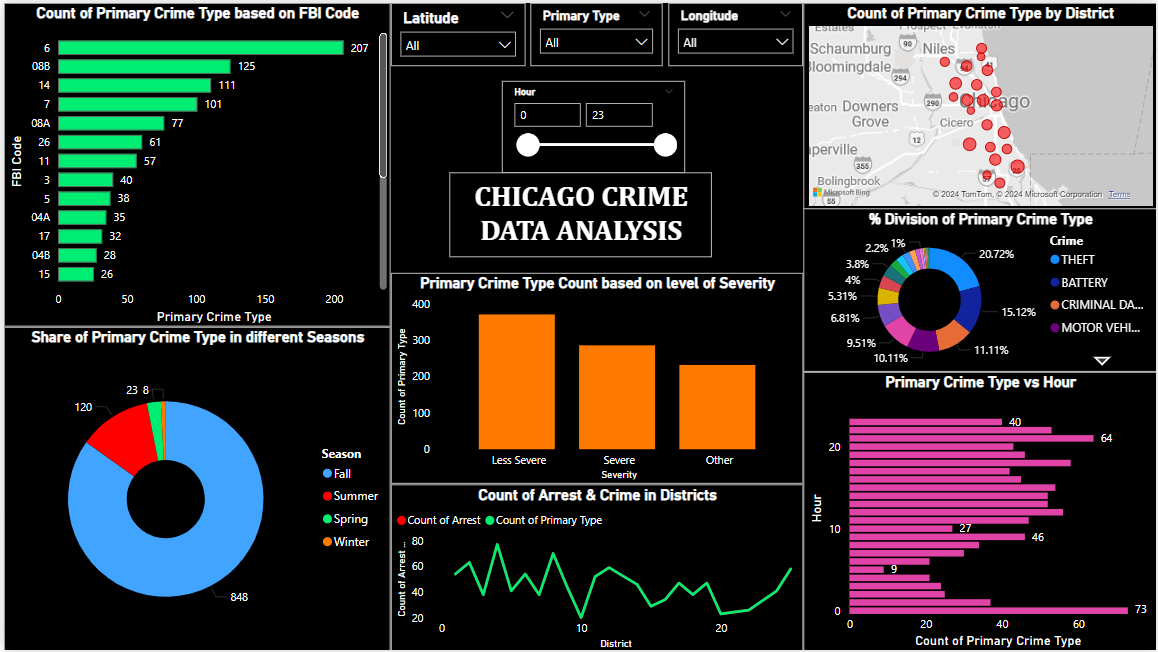

What the dashboard file says about the page in this screenshot:
{"tool":"powerbi","page":{"name":"Page 1","canvas":[1280,720],"ordinal":0},"visuals":[{"type":"barChart","title":"Count of Primary Crime Type based on FBI Code ","fields":{"Y":["CountNonNull(crime_data.Primary Type)"],"Category":["crime_data.FBI Code"]},"box":[0,0,429.5,359.5],"z":0},{"type":"clusteredBarChart","title":"Primary Crime Type vs Hour","fields":{"Category":["crime_data.Hour"],"Y":["CountNonNull(crime_data.Primary Type)"]},"box":[887.6,410.4,392.9,310.2],"z":1000},{"type":"map","title":"Count of Primary Crime Type by District","fields":{"Category":["crime_data.District"],"Y":["Avg(crime_data.Latitude)"],"X":["Avg(crime_data.Longitude)"],"Size":["CountNonNull(crime_data.Primary Type)"]},"box":[887.6,0,392.9,229],"z":2000},{"type":"slicer","fields":{"Values":["crime_data.Latitude"]},"box":[429.5,0,149.5,70],"z":3000},{"type":"slicer","fields":{"Values":["crime_data.Primary Type"]},"box":[585.3,0,146.3,70],"z":4000},{"type":"slicer","fields":{"Values":["crime_data.Longitude"]},"box":[738,0,149.5,70],"z":5000},{"type":"donutChart","title":"Share of Primary Crime Type in different Seasons","fields":{"Category":["crime_data.Season"],"Y":["CountNonNull(crime_data.Primary Type)"]},"box":[0,359.5,429.5,361.1],"z":6000},{"type":"slicer","fields":{"Values":["crime_data.Hour"]},"box":[553.5,87.5,203.6,101.8],"z":7000},{"type":"clusteredColumnChart","title":"Primary Crime Type Count based on level of Severity","fields":{"Y":["CountNonNull(crime_data.Primary Type)"],"Category":["crime_data.Severity"]},"box":[429.5,300.6,458.1,233.8],"z":8000},{"type":"lineChart","title":"Count of Arrest & Crime in Districts","fields":{"Category":["crime_data.District"],"Y":["CountNonNull(crime_data.Arrest)","CountNonNull(crime_data.Primary Type)"]},"box":[429.5,534.4,458.1,186.1],"z":9000},{"type":"donutChart","title":"% Division of Primary Crime Type ","fields":{"Category":["crime_data.Primary Type"],"Y":["CountNonNull(crime_data.Primary Type)"]},"box":[887.6,229,392.9,181.3],"z":10000},{"type":"textbox","box":[494.7,187.7,291.1,93.8],"z":11000}]}

Visuals, with their boxes in screenshot pixels (x1, y1, x2, y2), scaled from the page's 1280x720 canvas onto the 1158x652 screenshot:
"Count of Primary Crime Type based on FBI Code " barChart: <bbox>0, 0, 389, 326</bbox>
"Primary Crime Type vs Hour" clusteredBarChart: <bbox>803, 372, 1157, 651</bbox>
"Count of Primary Crime Type by District" map: <bbox>803, 0, 1157, 207</bbox>
slicer - crime_data.Latitude: <bbox>389, 0, 524, 63</bbox>
slicer - crime_data.Primary Type: <bbox>530, 0, 662, 63</bbox>
slicer - crime_data.Longitude: <bbox>668, 0, 803, 63</bbox>
"Share of Primary Crime Type in different Seasons" donutChart: <bbox>0, 326, 389, 651</bbox>
slicer - crime_data.Hour: <bbox>501, 79, 685, 171</bbox>
"Primary Crime Type Count based on level of Severity" clusteredColumnChart: <bbox>389, 272, 803, 484</bbox>
"Count of Arrest & Crime in Districts" lineChart: <bbox>389, 484, 803, 651</bbox>
"% Division of Primary Crime Type " donutChart: <bbox>803, 207, 1157, 372</bbox>
textbox: <bbox>448, 170, 711, 255</bbox>
